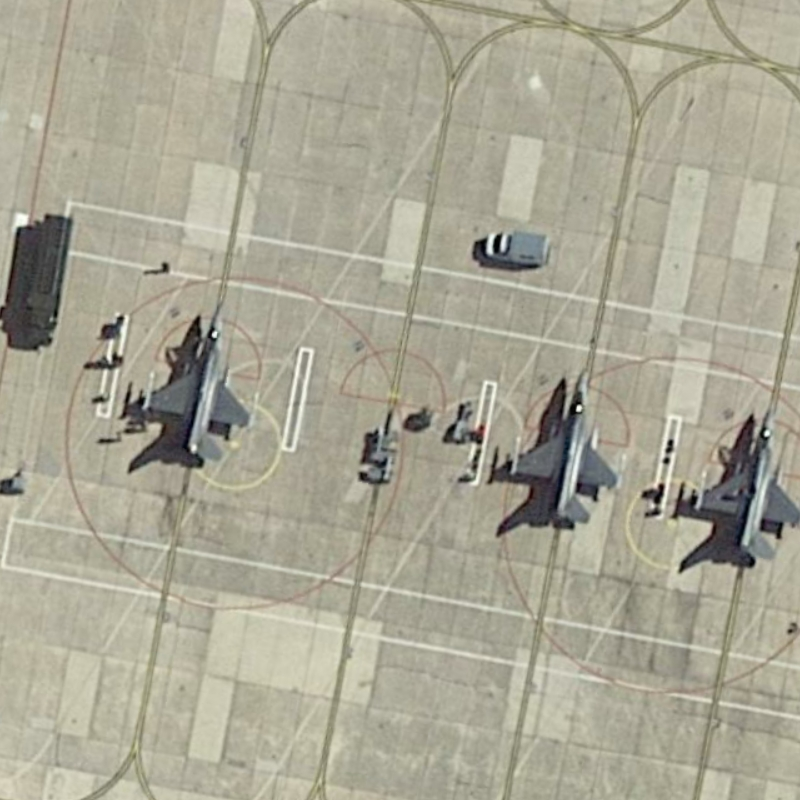A5: (134, 294, 254, 471), (680, 400, 800, 569), (502, 363, 621, 533)
